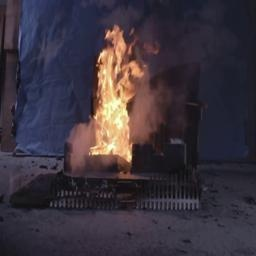fire: (86, 16, 164, 179)
